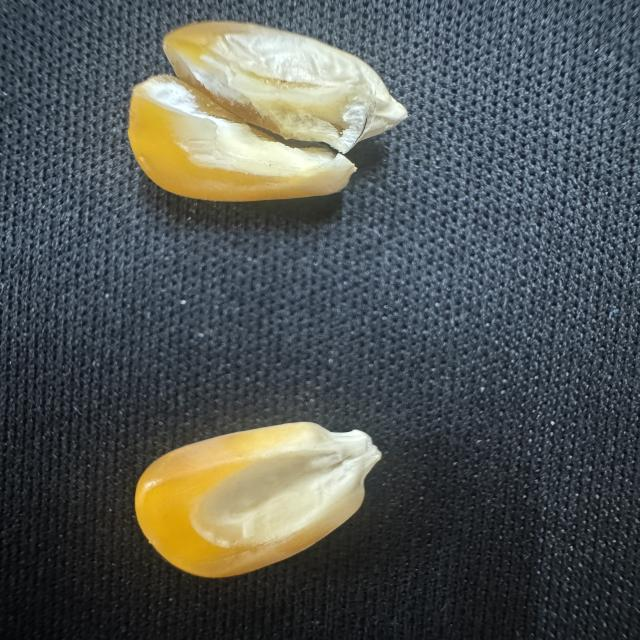Bad-Seed: (119, 17, 413, 208)
Good-Seed: (130, 419, 392, 582)
